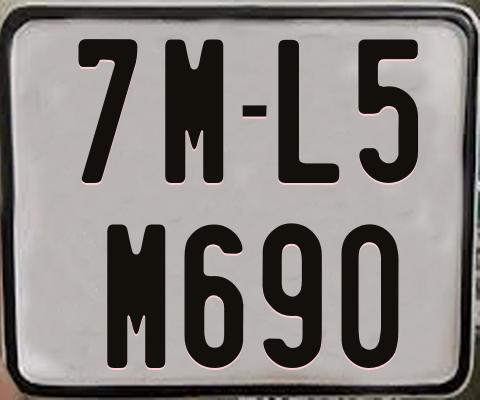0: (339, 222, 401, 368)
5: (356, 36, 420, 184)
6: (181, 223, 246, 371)
7: (76, 37, 140, 182)
9: (259, 222, 323, 369)
L: (277, 37, 338, 182)
M: (105, 222, 167, 369), (162, 38, 225, 182)
